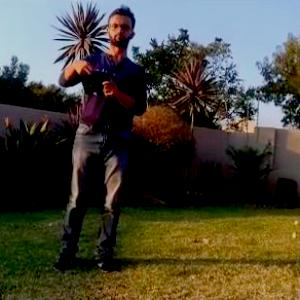follow: (46, 2, 149, 282)
